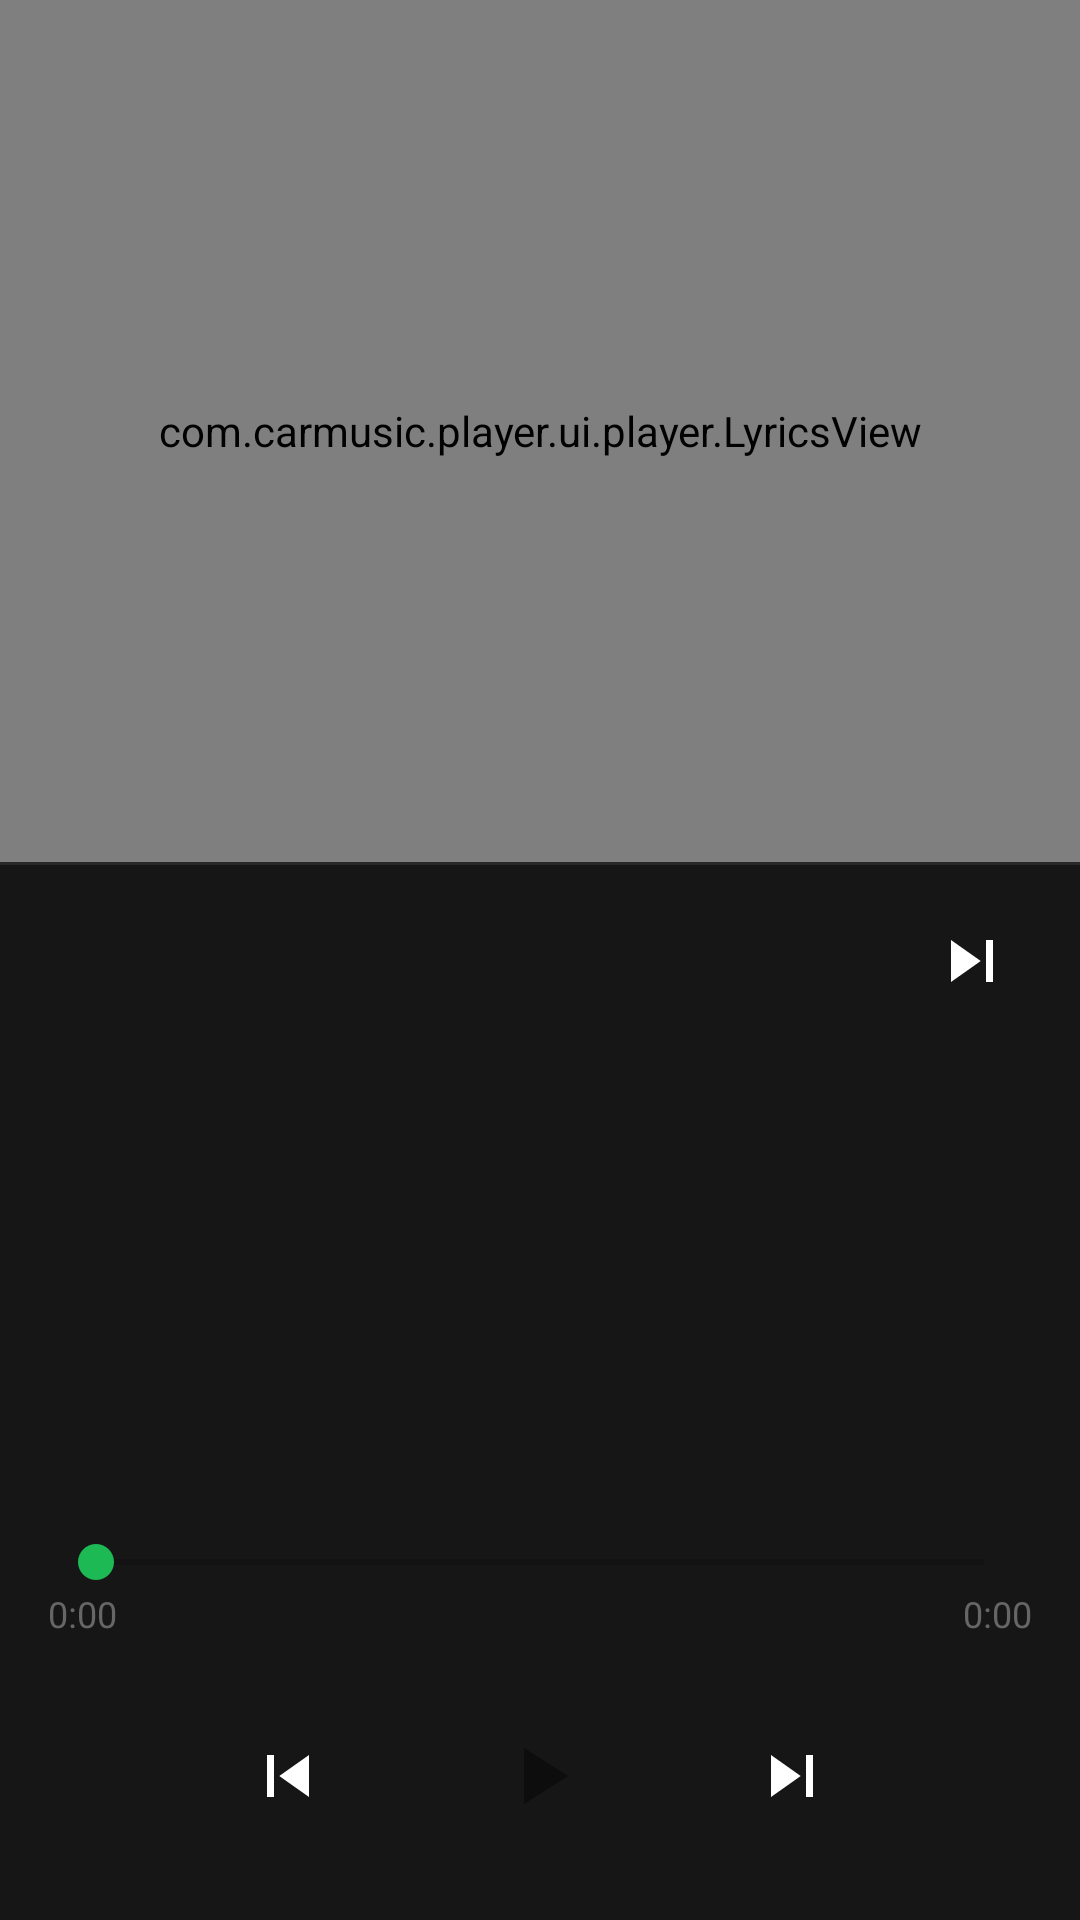

Icons on this 1080px x 1920px Android screen, each with the point to tap as (x=x, y=y):
上一首: (x=288, y=1776)
下一首: (x=792, y=1776)
